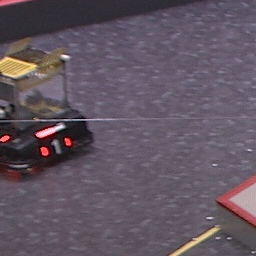Red: (38, 137, 76, 157)
Robot: (1, 40, 97, 176)
